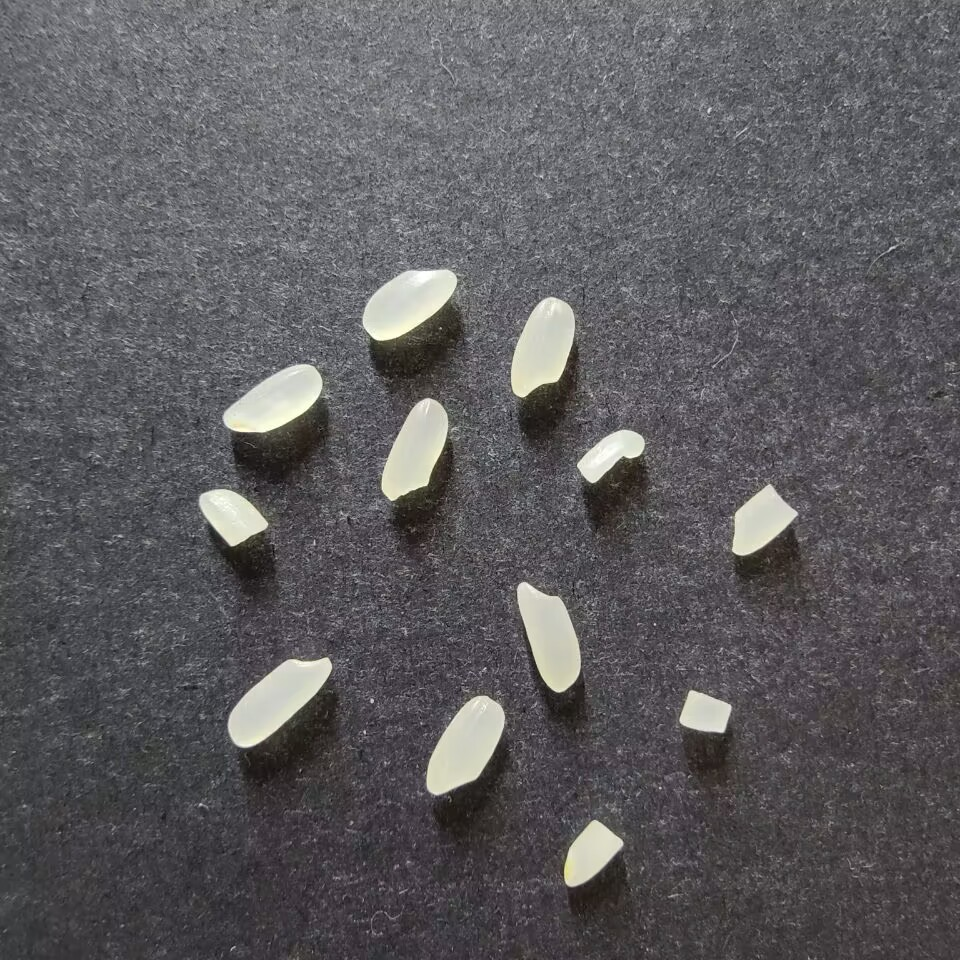broken: (730, 483, 798, 555), (561, 819, 624, 887), (198, 488, 268, 546), (576, 429, 645, 483), (678, 689, 733, 733)
rice: (226, 656, 333, 747), (424, 695, 505, 795), (515, 581, 582, 692), (361, 268, 458, 342), (222, 363, 322, 433), (380, 398, 449, 499), (509, 296, 575, 397)
